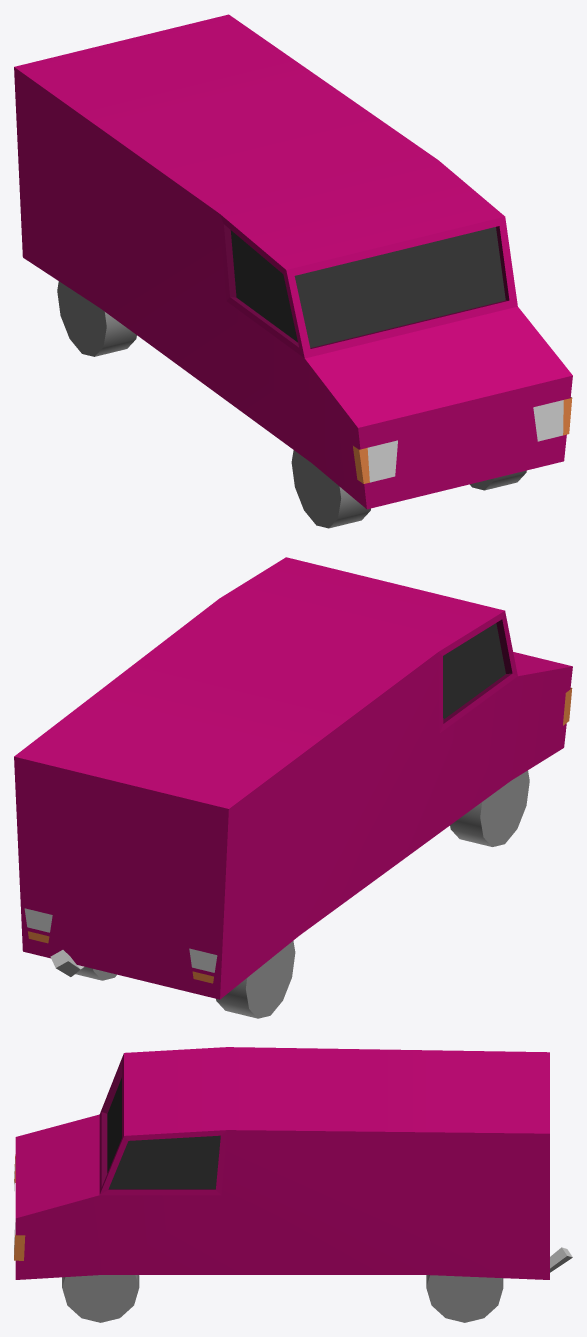
File: van_06.fbx
3 renders of one model, top to bottom at view 1: azimuth 30°, elevation 25°; view 2: azimuth 150°, elevation 25°; view 3: azimuth 270°, elevation 25°, orthographic. The views are drawn at different scales.
Parts seen in each view (by area): view 1: van_06; view 2: van_06; view 3: van_06.
Boxes of the visible parts, bbox=[...] form: van_06: bbox=[14, 14, 572, 528]; van_06: bbox=[14, 557, 572, 1018]; van_06: bbox=[14, 1047, 572, 1322].
Size of the model in its own units: 1.61 by 1.8 by 4.59.
